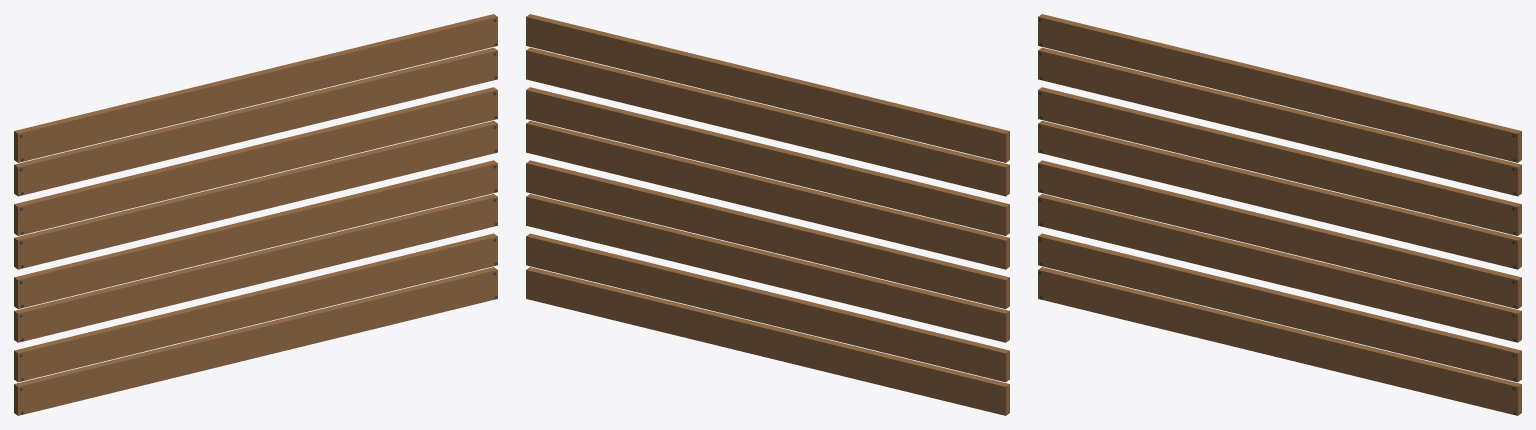
The model's file is WindowLargeAcc_Planks.fbx.
3 renders of one model, left to right at view 1: azimuth 30°, elevation 25°; view 2: azimuth 150°, elevation 25°; view 3: azimuth 330°, elevation 25°, orthographic.
Parts seen in each view (by area): view 1: WindowLargeAcc_Planks; view 2: WindowLargeAcc_Planks; view 3: WindowLargeAcc_Planks.
Part boxes in pixels (<box>): WindowLargeAcc_Planks: <box>14,14,497,415</box>; WindowLargeAcc_Planks: <box>526,14,1009,415</box>; WindowLargeAcc_Planks: <box>1038,14,1521,415</box>.
Bounding box in the file's own units: 165 × 92.51 × 2.77.
